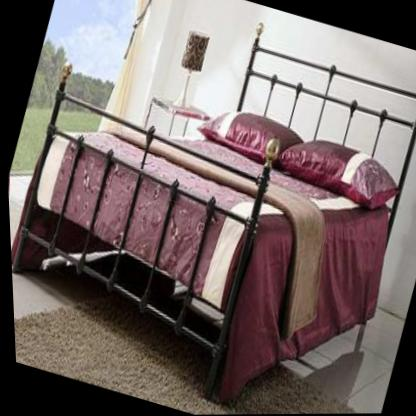Bed: (9, 92, 400, 404)
Carpet: (11, 305, 216, 415)
